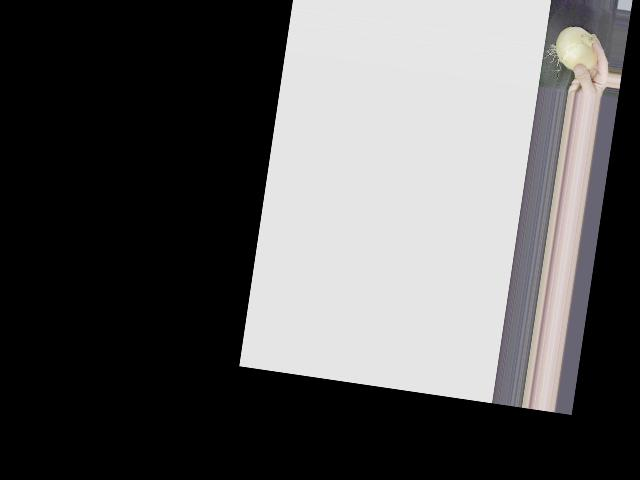onion: (551, 25, 602, 72)
